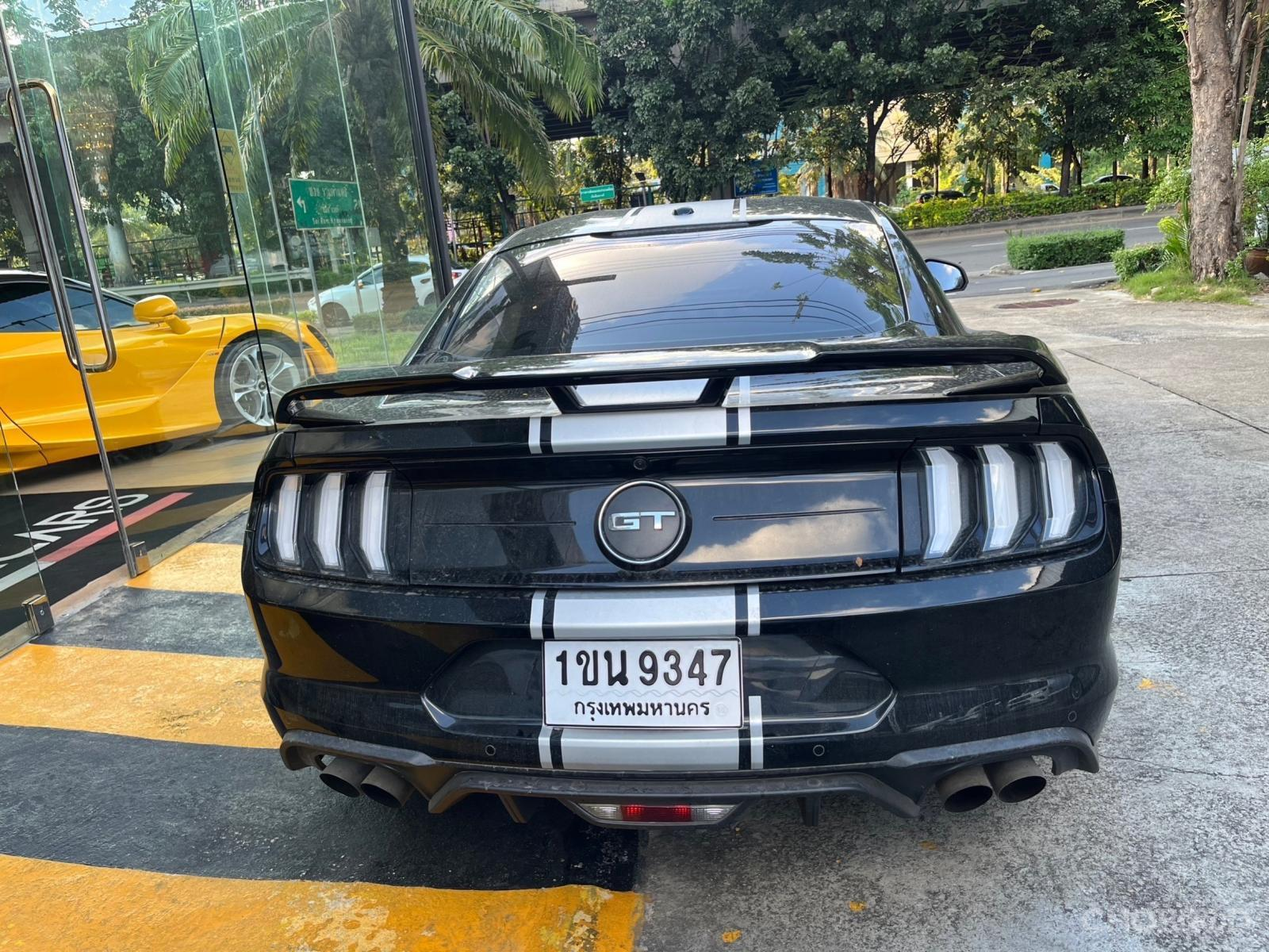license-plate: (541, 635, 749, 731)
